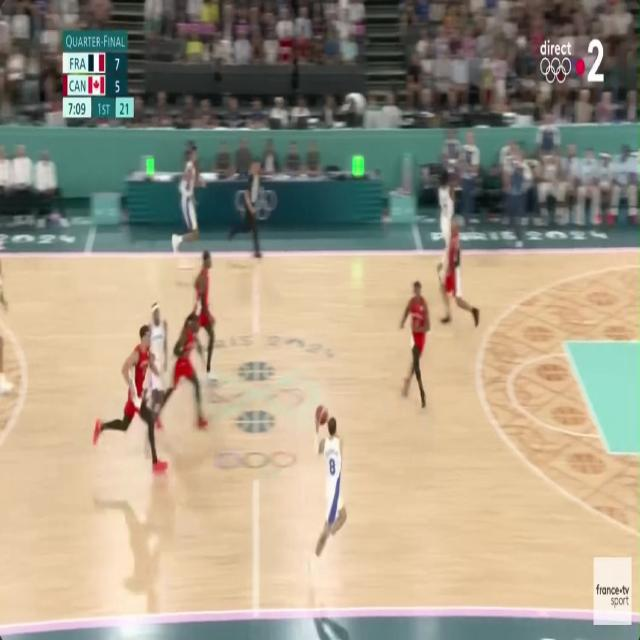ball_handler: (310, 397, 349, 586)
